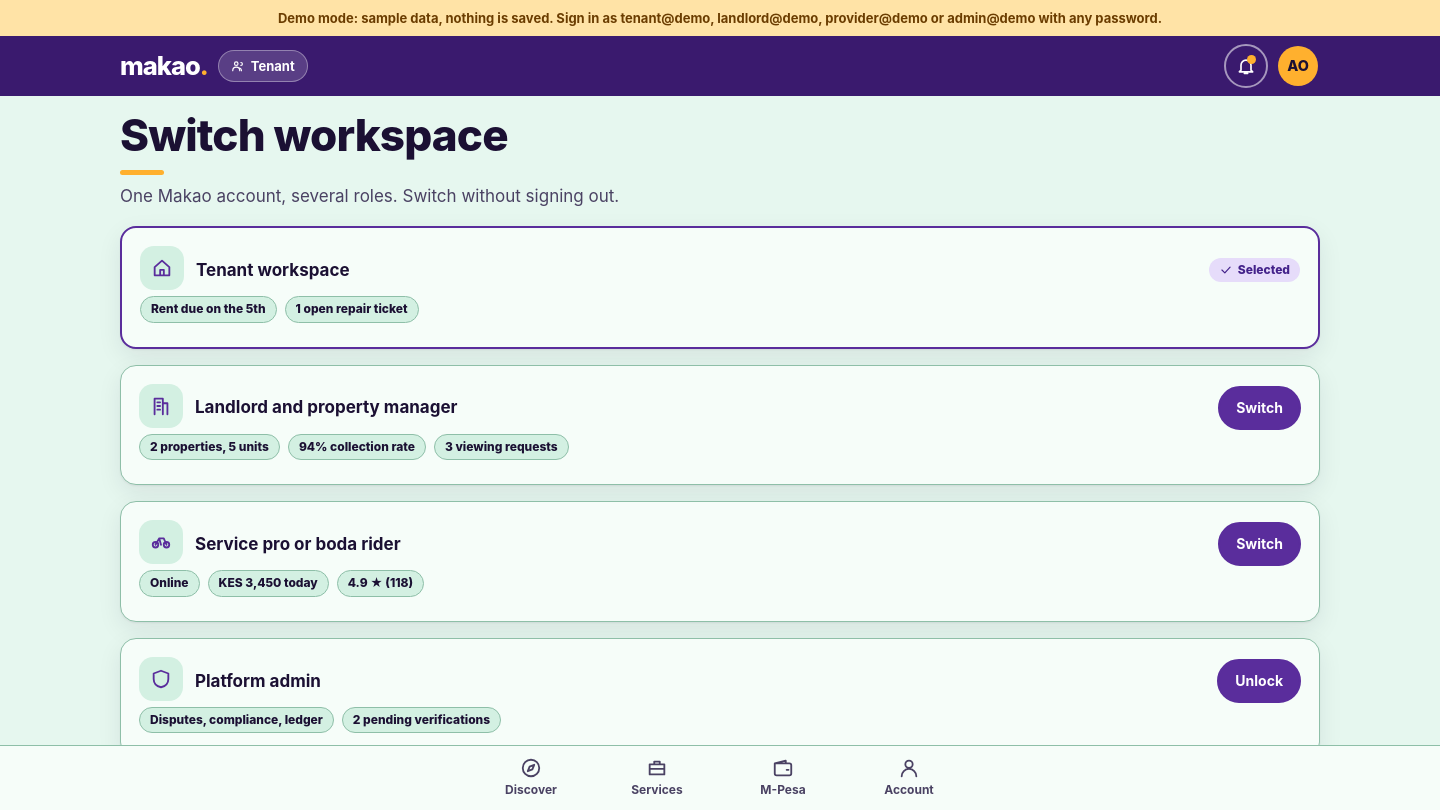
Test: new app screens › switching role in demo goes to that workspace
Click the button "Unlock" at x=1259, y=681, box [1217,659,1301,703]
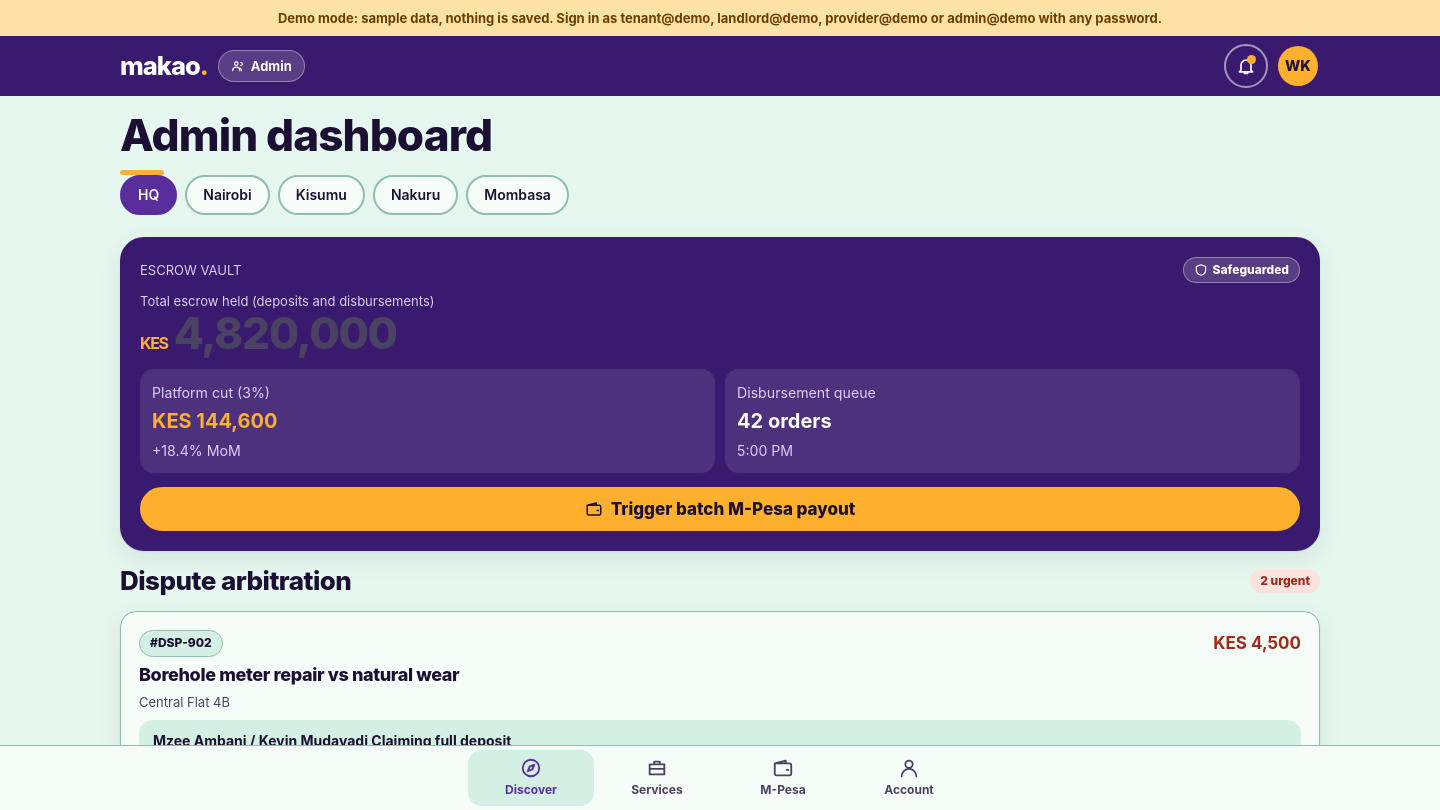
Now the heading "Admin dashboard" is shown, box [120,108,492,162]
